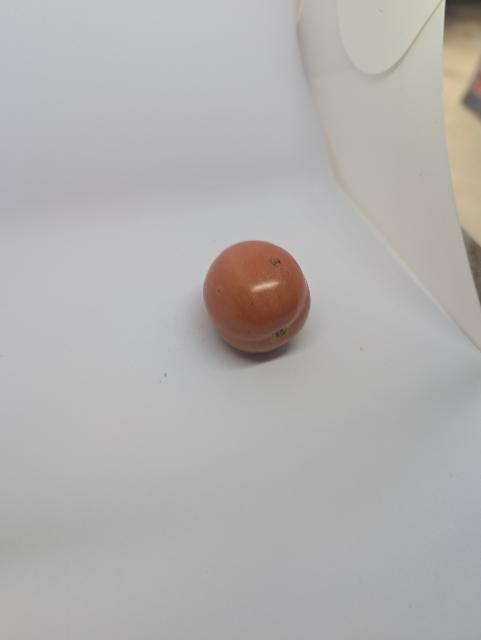red: (198, 231, 321, 364)
